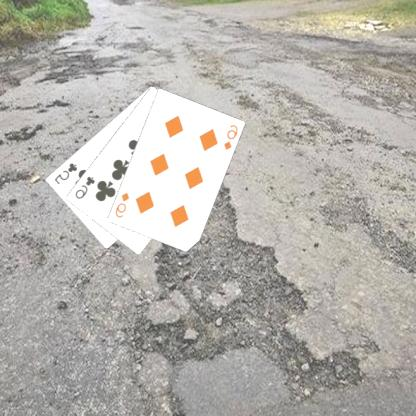5C: (53, 160, 80, 186)
6D: (222, 121, 241, 152), (114, 190, 132, 219)
9C: (73, 174, 98, 200)
